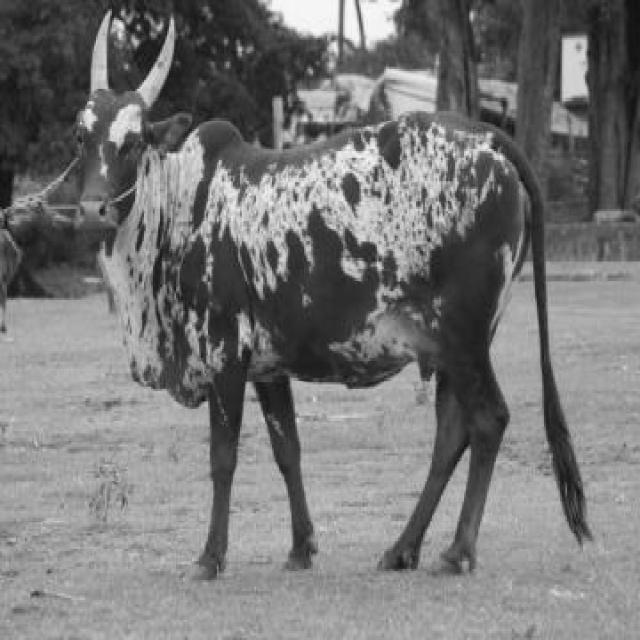Cow: (50, 26, 585, 582)
